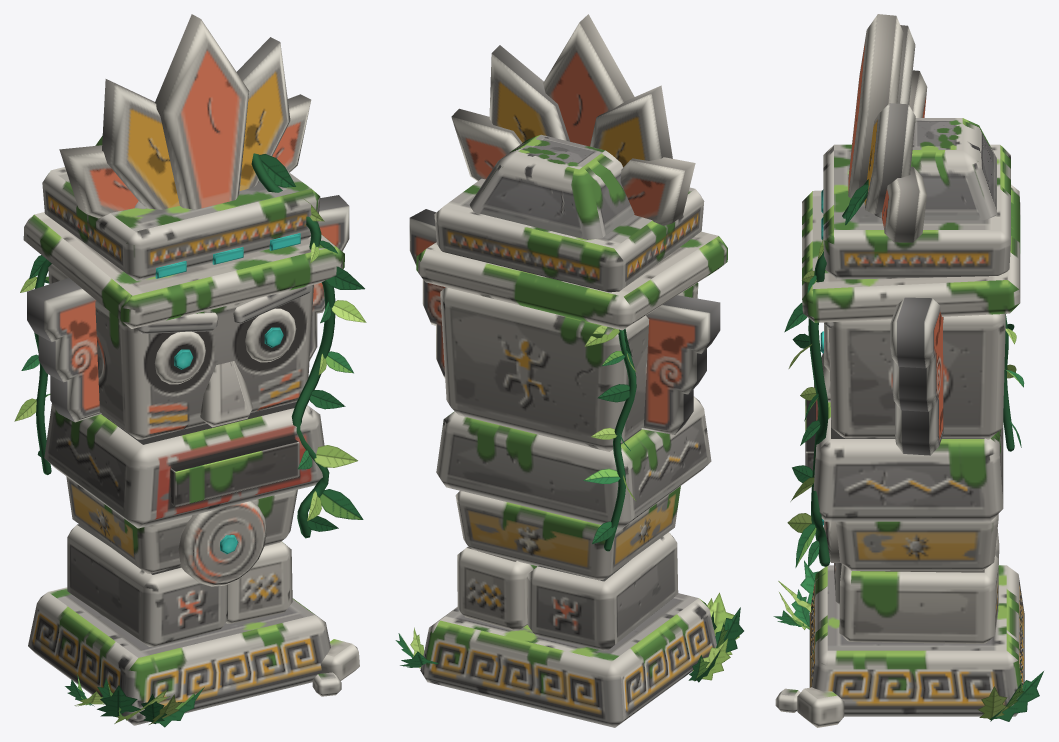
File: gate_totem_a.glb
3 views of the same model, side by side, from view 1: azimuth 30°, elevation 25°; view 2: azimuth 150°, elevation 25°; view 3: azimuth 270°, elevation 25° (orthographic). The views are drawn at different scales.
Parts seen in each view (by area): view 1: 0000_add, 0006_add, 0013_add, 0022_add, 0021_add, 0031_add, 0001_add, 0026_add, 0030_add, 0003_add, 0004_add, 0007_cut (+18 smaller); view 2: 0013_add, 0000_add, 0006_add, 0022_add, 0021_add, 0028_add, 0003_add, 0001_add, 0026_add, 0031_add, 0002_add, 0032_add (+6 smaller); view 3: 0000_add, 0006_add, 0013_add, 0022_add, 0002_add, 0021_add, 0003_add, 0027_add, 0028_add, 0031_add, 0032_add, 0033_add (+10 smaller).
Part boxes in pixels (<box>): 0000_add: <box>28,587,330,725</box>; 0006_add: <box>44,402,327,528</box>; 0013_add: <box>48,264,313,439</box>; 0022_add: <box>42,167,320,280</box>; 0021_add: <box>23,212,344,328</box>; 0031_add: <box>155,14,249,209</box>; 0001_add: <box>67,524,227,647</box>; 0026_add: <box>27,278,101,422</box>; 0030_add: <box>102,79,179,209</box>; 0003_add: <box>66,476,297,573</box>; 0004_add: <box>178,501,266,586</box>; 0007_cut: <box>170,438,299,506</box>; 0013_add: <box>440,282,698,451</box>; 0000_add: <box>420,593,716,727</box>; 0006_add: <box>436,396,711,529</box>; 0022_add: <box>434,178,704,292</box>; 0021_add: <box>416,231,727,330</box>; 0028_add: <box>469,134,634,239</box>; 0003_add: <box>455,486,680,580</box>; 0001_add: <box>527,532,678,650</box>; 0026_add: <box>641,295,720,434</box>; 0031_add: <box>543,14,634,146</box>; 0002_add: <box>457,546,536,630</box>; 0032_add: <box>489,45,569,142</box>; 0000_add: <box>809,565,1024,716</box>; 0006_add: <box>813,399,1003,521</box>; 0013_add: <box>828,314,1005,439</box>; 0022_add: <box>823,144,1010,279</box>; 0002_add: <box>839,555,998,643</box>; 0021_add: <box>802,184,1020,322</box>; 0003_add: <box>836,514,998,570</box>; 0027_add: <box>890,297,943,455</box>; 0028_add: <box>874,118,996,220</box>; 0031_add: <box>848,14,903,197</box>; 0032_add: <box>864,103,915,214</box>; 0033_add: <box>882,167,926,242</box>.
Bounding box in the file's own units: 5.73 × 11.66 × 4.37.
